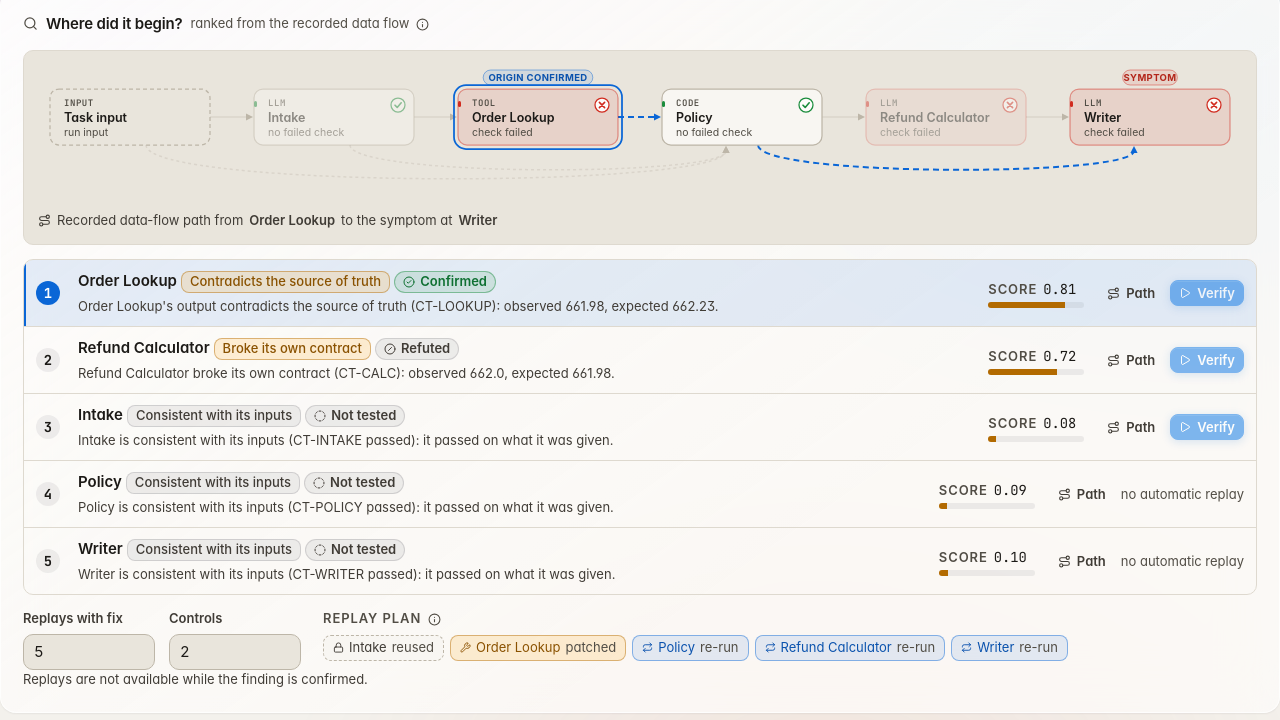
Test: root-cause hypotheses › highlights the recorded path of the hypothesis the analyst selects
This screenshot has width=1280, height=720.
(page scrolled)
Expected: the text "origin confirmed" is shown, [488,71,588,82]
Step 1. Click the button with aria-label "Show path from Refund Calculator" → x=1131, y=360, box [1098,347,1164,373]
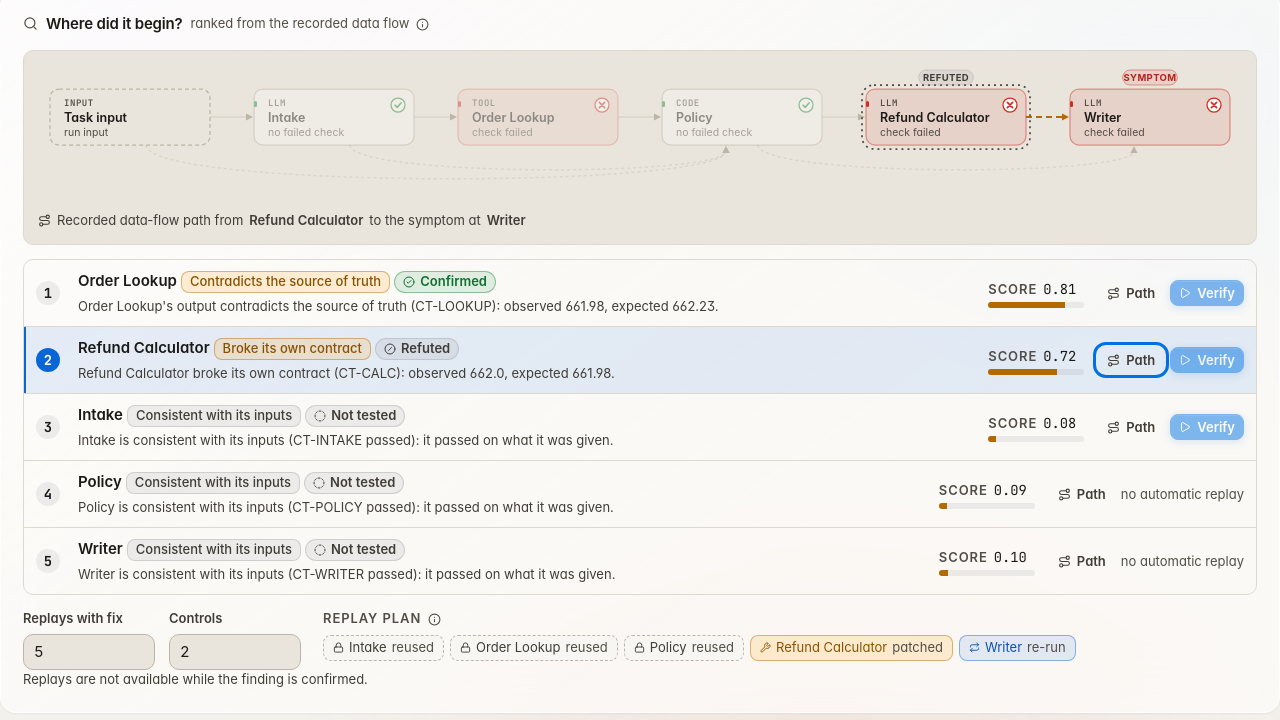
Expected: the text "refuted" is shown, [923,71,969,82]
Now the icon "origin confirmed" is gone
